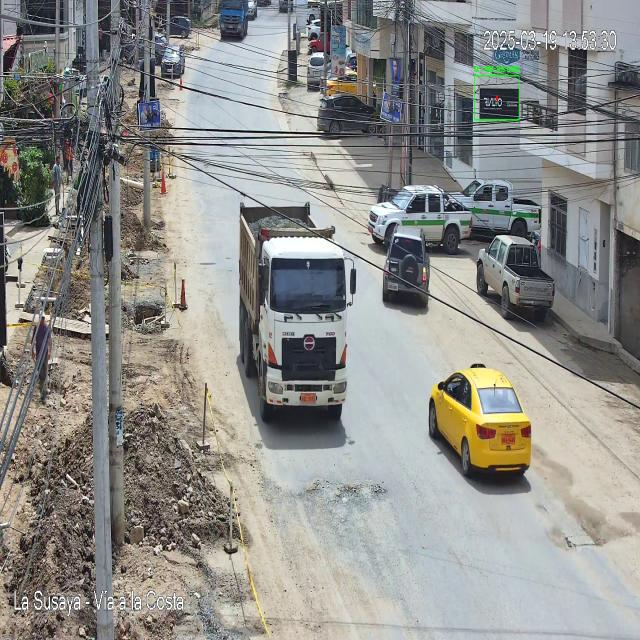CMT: (458, 182, 540, 243)
SED: (428, 365, 533, 493)
TRUCK: (240, 202, 356, 419)
